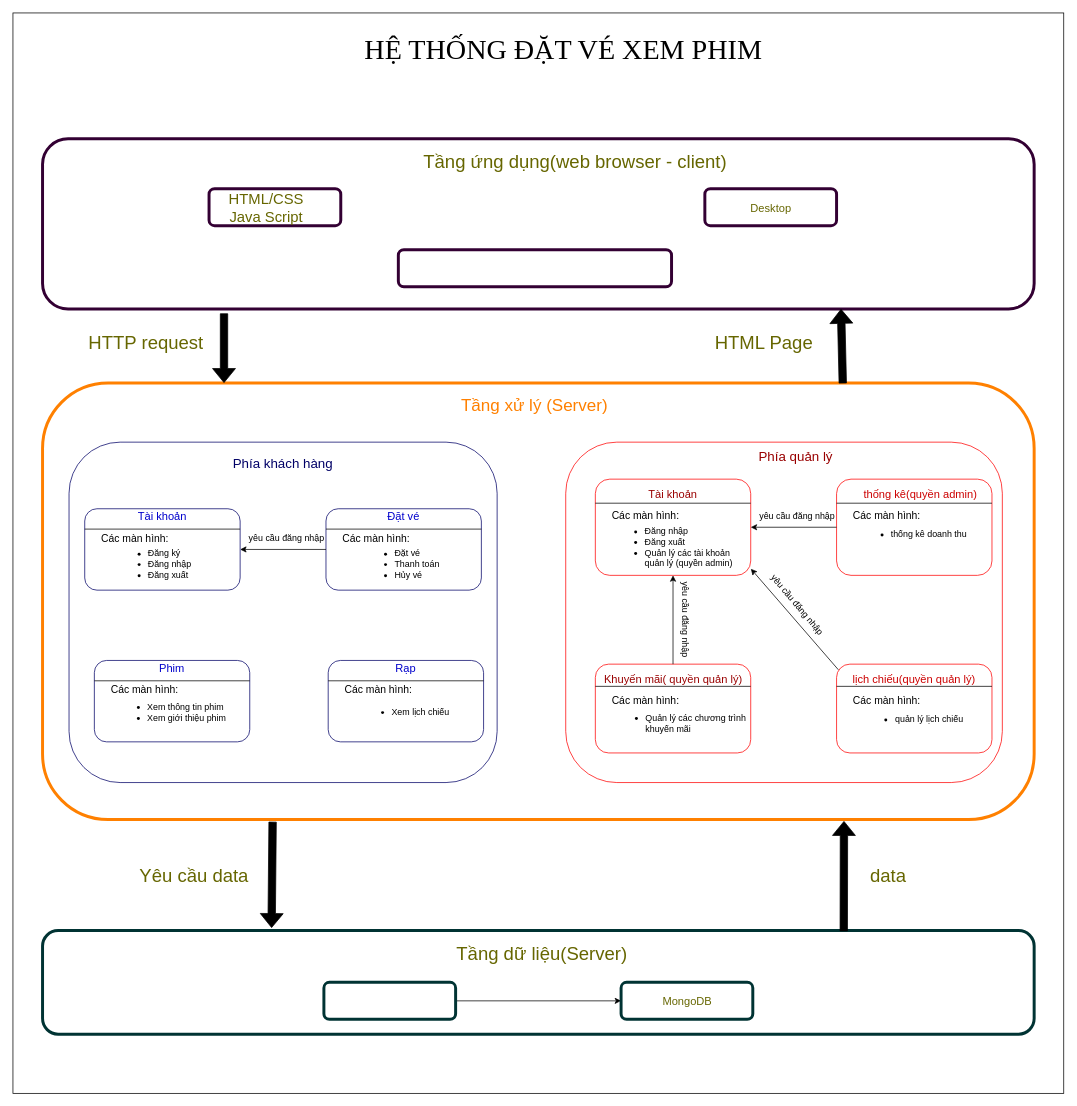
Some shapes in this 1077 by 1106 pixel diagram are drawn without their labels. The shapes that lost their labels are listed below. From the top down, each one's centre as x and y in pixels, then its label:
(x=534, y=268): Web browerser: Chrom,Edge,Firefox
(x=389, y=1000): Database library
